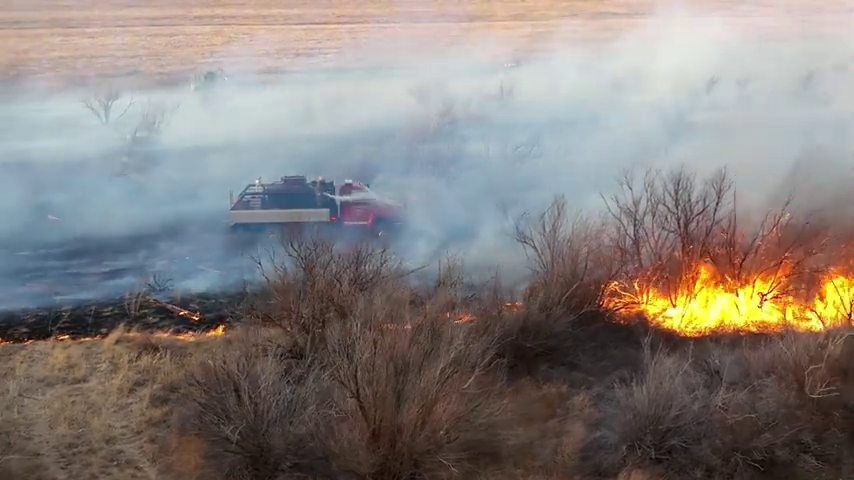forest_fire: (605, 264, 853, 336), (153, 324, 226, 340)
